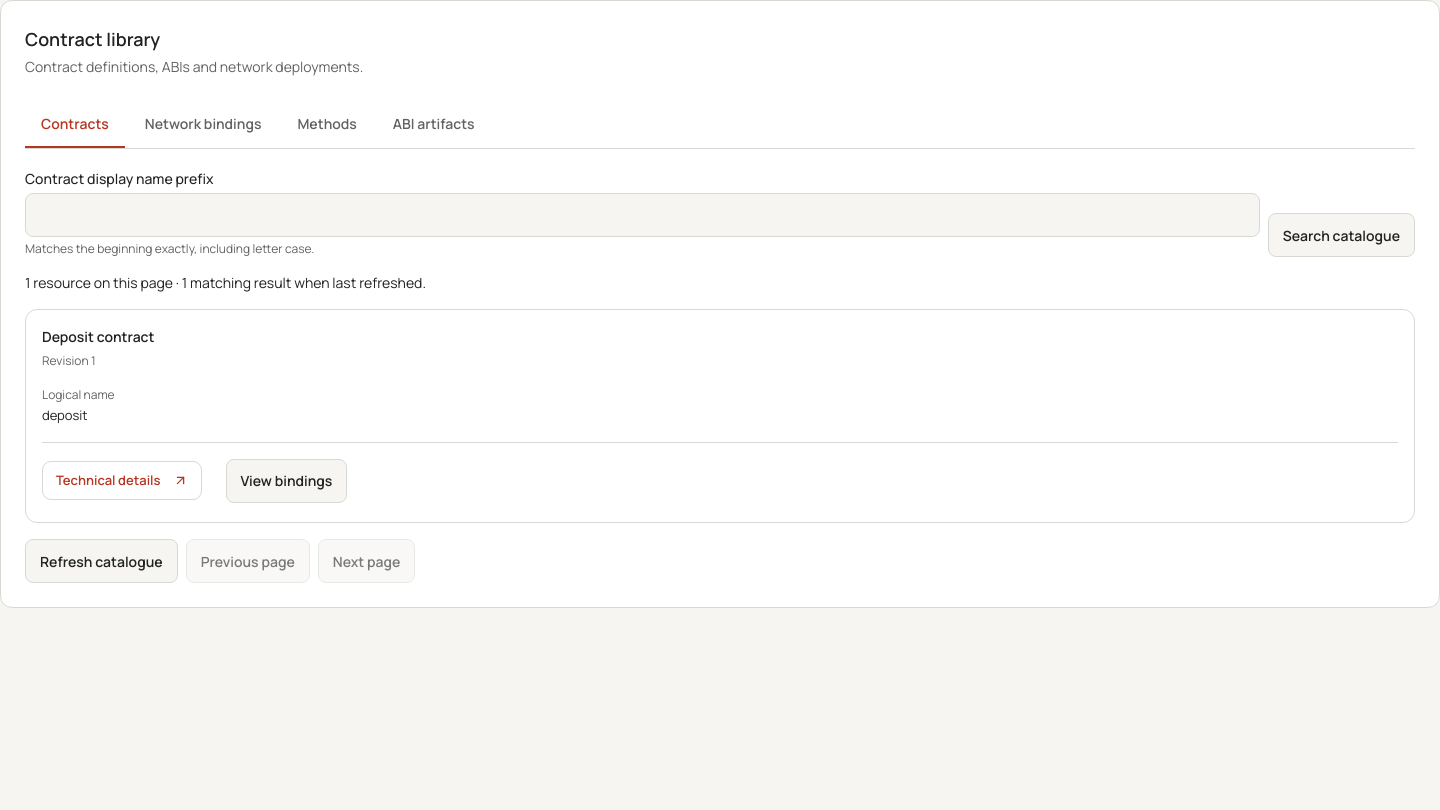
Scenario: removes all drilldown metadata during changing invalidation
Later steps or results of the test are not shown.
What coordinates should you click on to do the following:
click the button with aria-label "View bindings for Deposit contract"
I would click on:
 (286, 481)
Its box is [226,459,347,503].
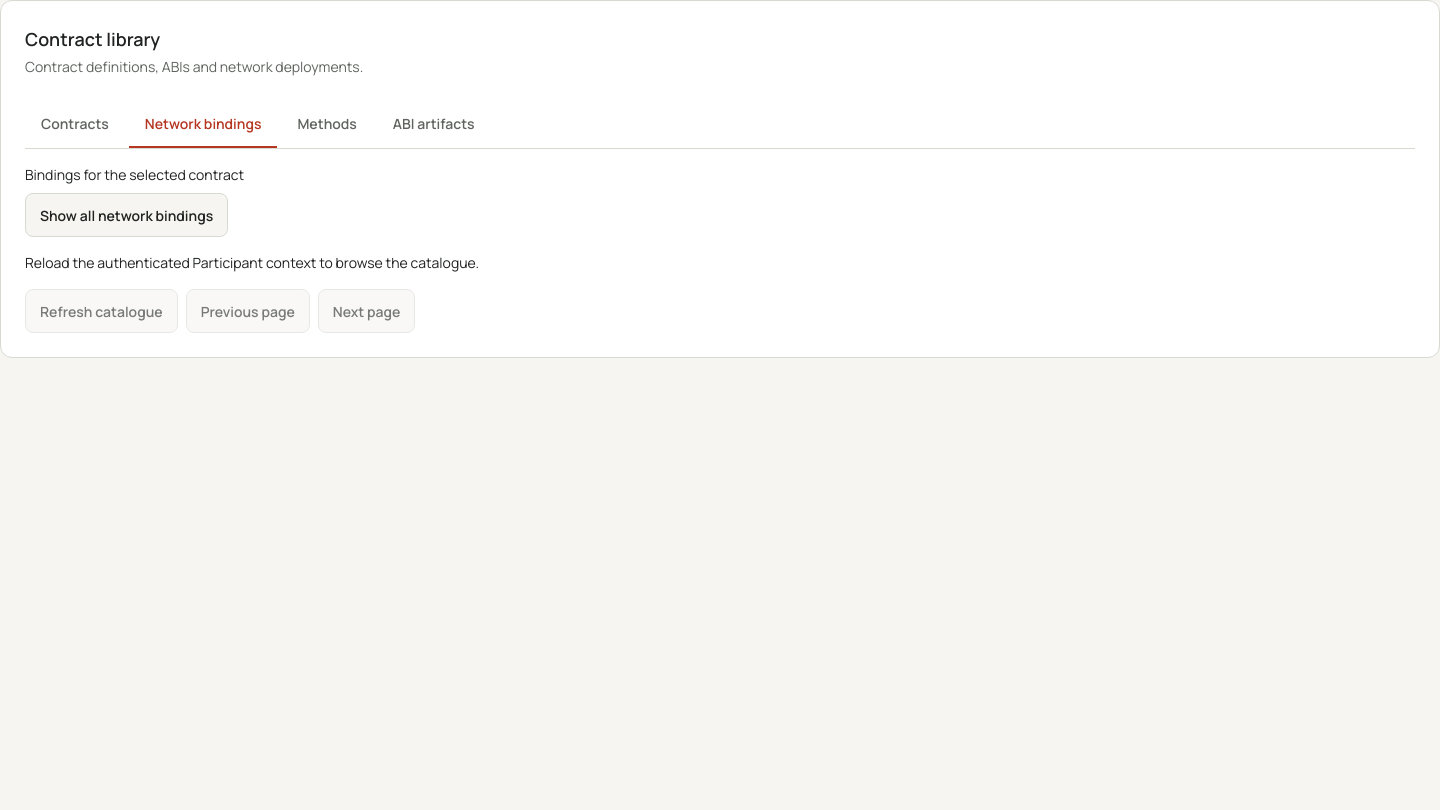
Check: the heading "Deposit contract" is gone
